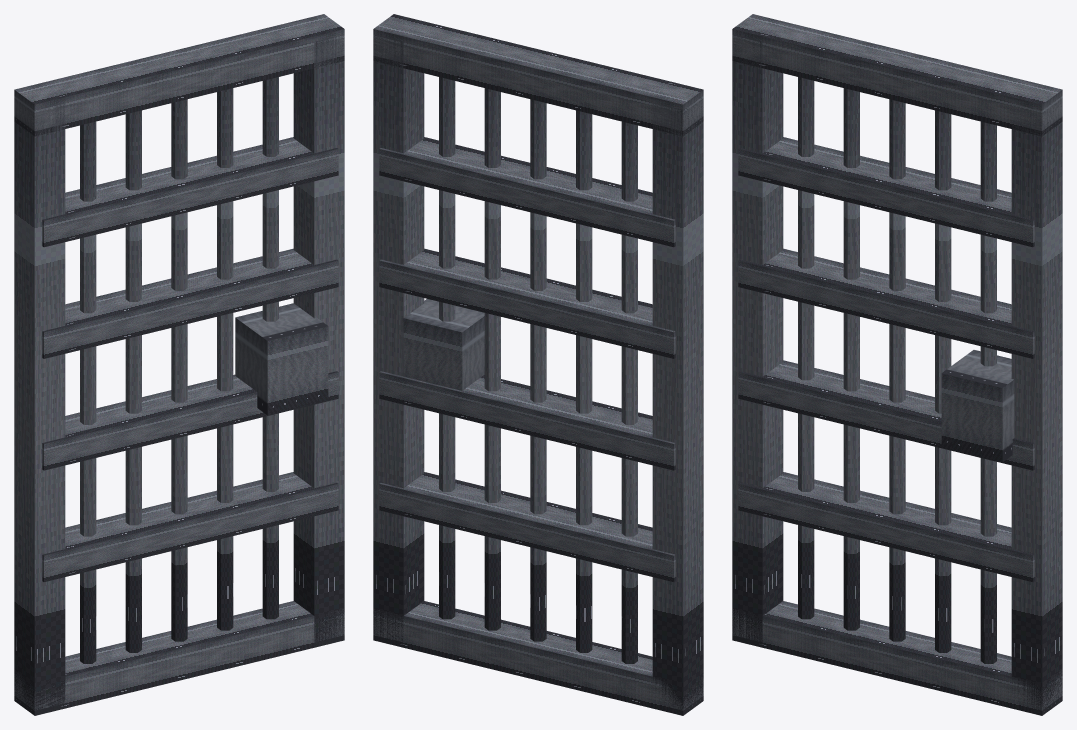
The model's file is prisao_porta_de_cela_nivel_3.glb.
3 renders of one model, left to right at view 1: azimuth 30°, elevation 25°; view 2: azimuth 150°, elevation 25°; view 3: azimuth 330°, elevation 25°, orthographic.
Parts seen in each view (by area): view 1: prisao_porta_de_cela_nivel_3; view 2: prisao_porta_de_cela_nivel_3; view 3: prisao_porta_de_cela_nivel_3.
Part boxes in pixels (bbox=[...]): prisao_porta_de_cela_nivel_3: bbox=[14, 14, 344, 715]; prisao_porta_de_cela_nivel_3: bbox=[373, 14, 703, 715]; prisao_porta_de_cela_nivel_3: bbox=[732, 14, 1062, 715].
Bounding box in the file's own units: 1.22 × 2.3 × 0.23.
Materials: 1 (1 with a texture image).
